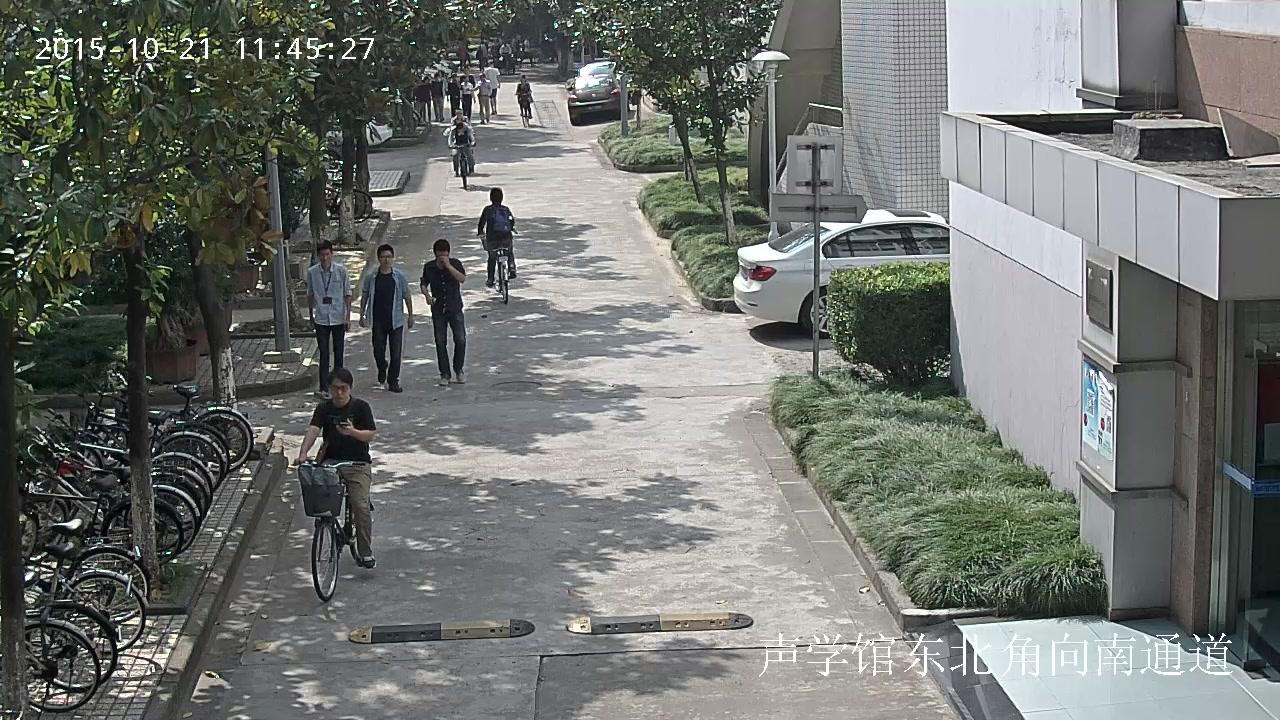face: (329, 377, 350, 403), (381, 250, 392, 268), (318, 249, 331, 264), (435, 250, 448, 264), (455, 108, 462, 117), (455, 118, 462, 125), (519, 75, 524, 82), (463, 67, 468, 72), (463, 75, 468, 80), (479, 76, 484, 80), (425, 79, 429, 83), (435, 76, 439, 79)
